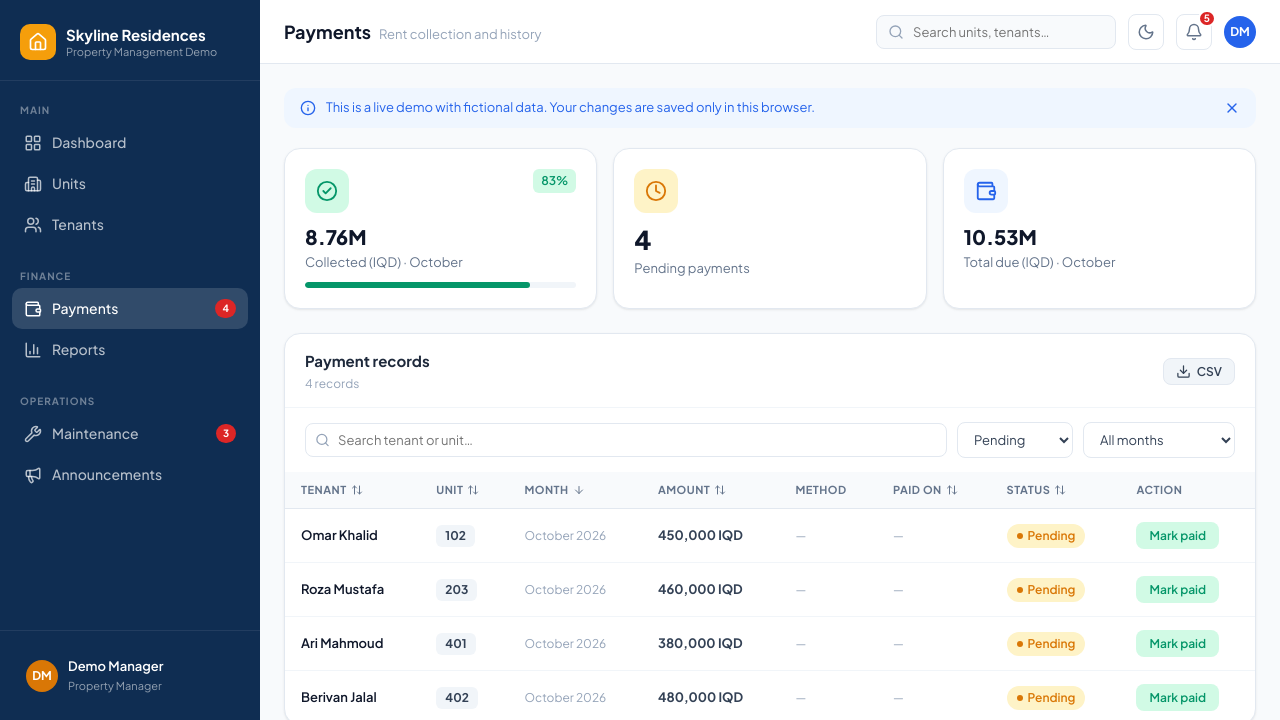
app › records a payment through the modal
The width and height of the screenshot is (1280, 720).
Step 1. Click the button "Mark paid" in the row of "Omar Khalid" → (1178, 536), box 1136,522 -> 1219,549
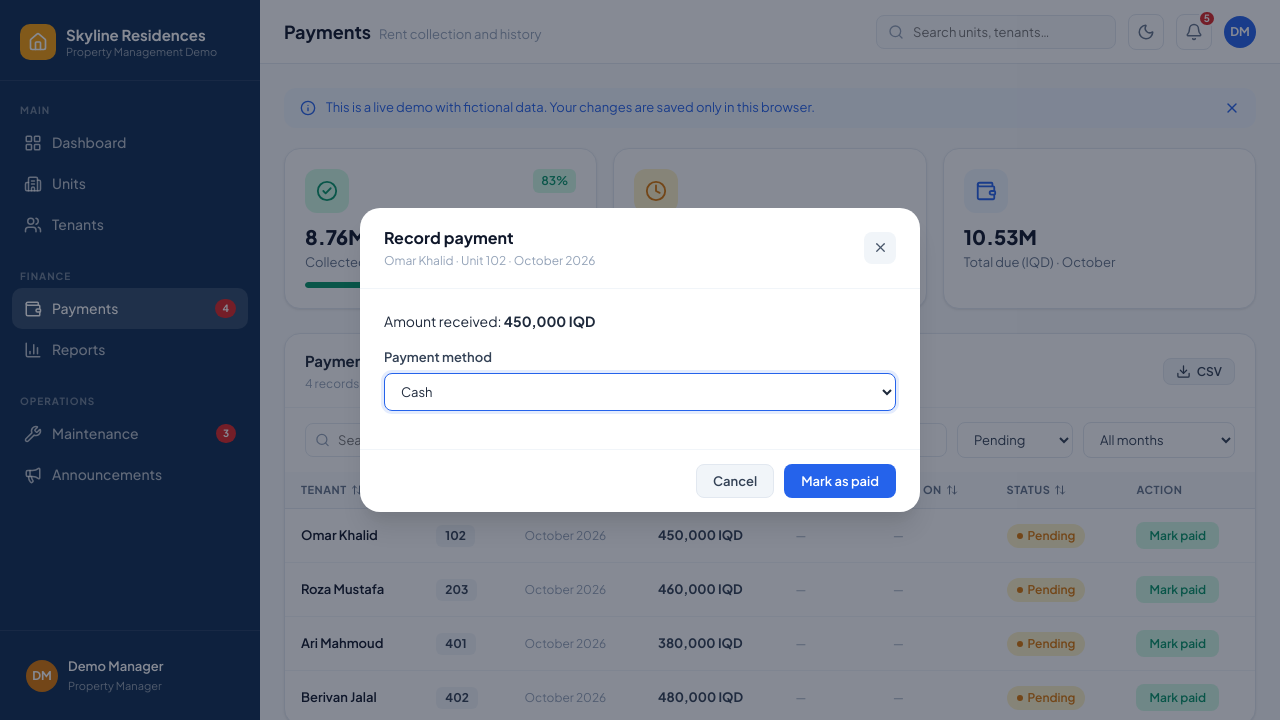
Step 2. Click the button "Mark as paid" → (840, 481), box 784,464 -> 896,498
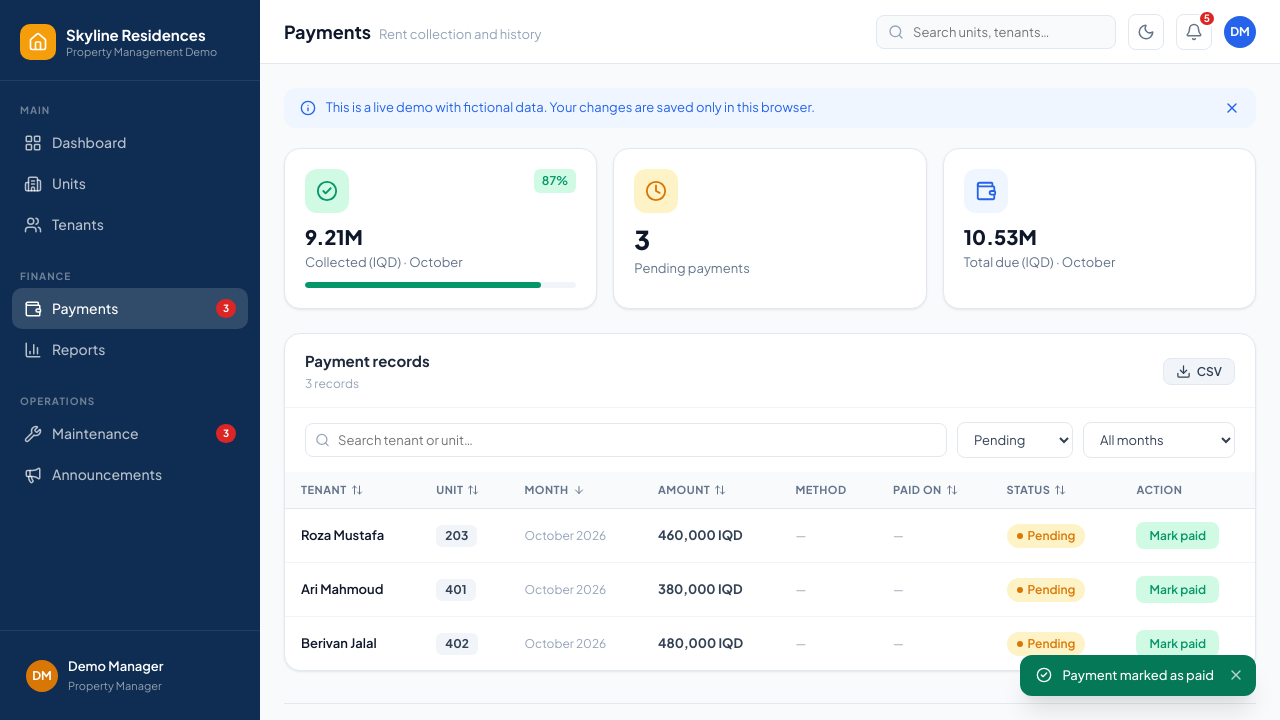
Result: the text "Payment marked as paid" is shown at 1020,654 -> 1256,696
